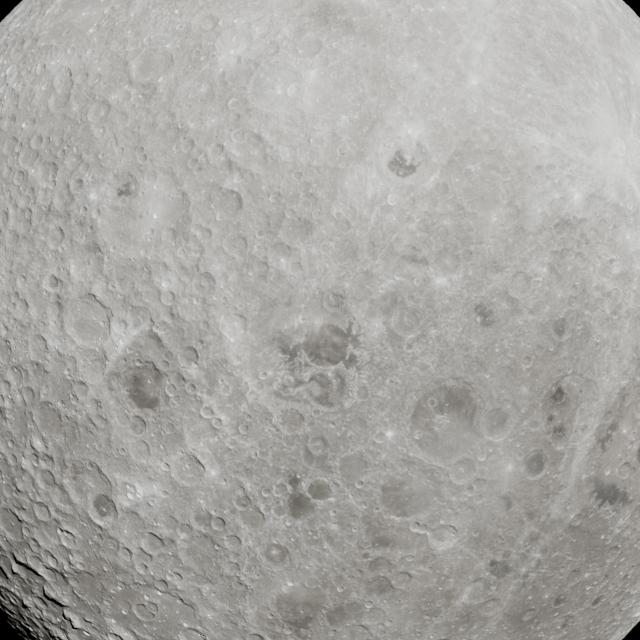crater: (543, 373, 600, 444), (376, 470, 438, 522), (68, 462, 120, 522), (62, 298, 114, 350), (221, 126, 276, 172), (528, 433, 573, 482), (28, 399, 70, 448), (130, 46, 172, 84), (386, 303, 424, 341), (557, 308, 591, 345), (277, 212, 314, 246), (337, 450, 374, 482), (479, 406, 513, 440), (211, 188, 243, 220), (265, 240, 297, 272), (45, 82, 74, 116), (234, 502, 266, 532), (278, 408, 306, 436), (295, 33, 325, 58), (85, 101, 112, 128), (366, 573, 395, 598), (51, 69, 75, 99), (452, 457, 478, 482), (178, 455, 204, 480), (306, 478, 332, 502), (524, 451, 547, 478), (431, 524, 458, 546), (141, 532, 165, 556), (306, 435, 330, 459), (367, 556, 394, 577), (4, 364, 24, 392), (264, 542, 289, 564), (191, 510, 215, 532), (322, 291, 346, 312), (28, 429, 48, 453), (510, 271, 532, 292), (30, 333, 49, 357), (132, 602, 154, 622), (32, 501, 52, 522), (41, 273, 62, 293), (232, 492, 252, 512), (127, 418, 147, 437), (58, 527, 77, 547), (40, 469, 58, 489), (136, 440, 153, 460), (224, 532, 242, 550), (367, 605, 387, 621), (394, 571, 412, 588), (159, 290, 176, 308), (210, 515, 227, 532), (480, 598, 500, 612), (521, 610, 537, 624)
